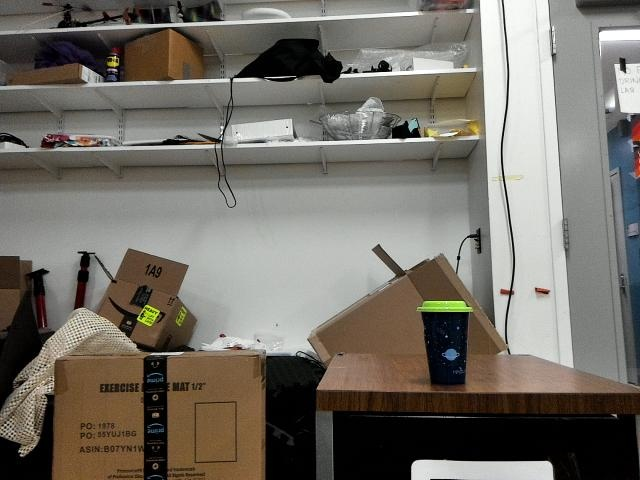useless_cup: (419, 299, 471, 382)
